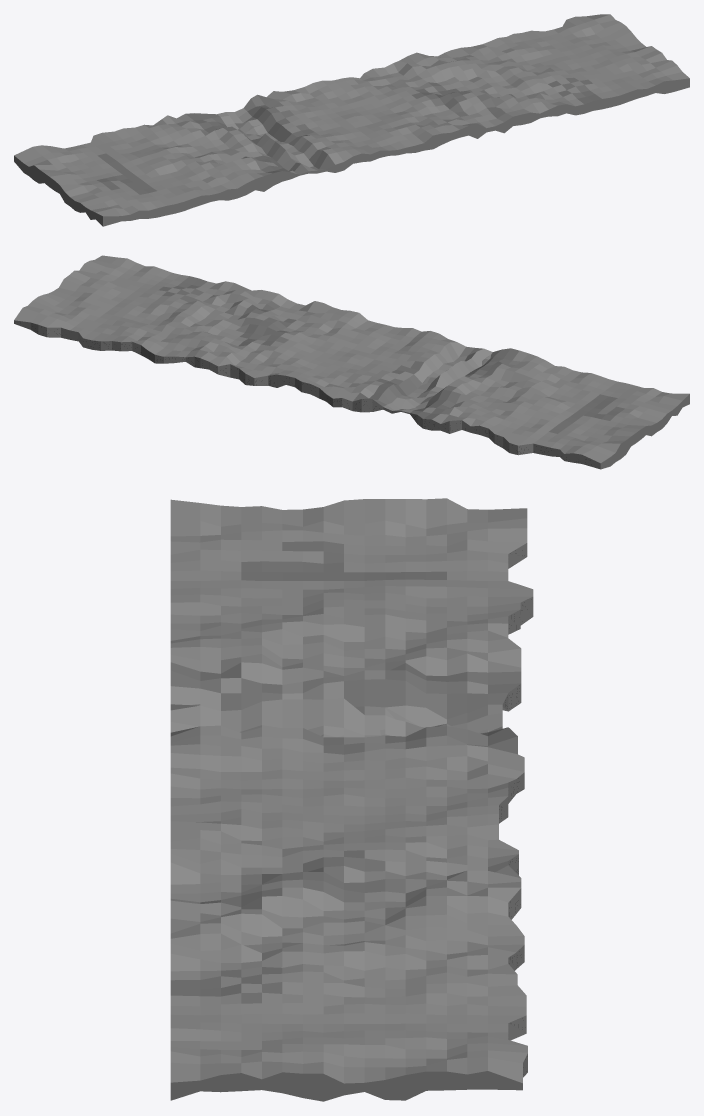
File: red_right_wall.fbx
3 renders of one model, top to bottom at view 1: azimuth 30°, elevation 25°; view 2: azimuth 150°, elevation 25°; view 3: azimuth 270°, elevation 25°, orthographic. The views are drawn at different scales.
Parts seen in each view (by area): view 1: Grid; view 2: Grid; view 3: Grid.
Part boxes in pixels (x1=…): Grid: x1=14, y1=14, x2=689, y2=226; Grid: x1=14, y1=255, x2=689, y2=469; Grid: x1=170, y1=498, x2=533, y2=1101.
Bounding box in the file's own units: 8.25 × 0.2275 × 2.2.
2 materials, 2 textured.
